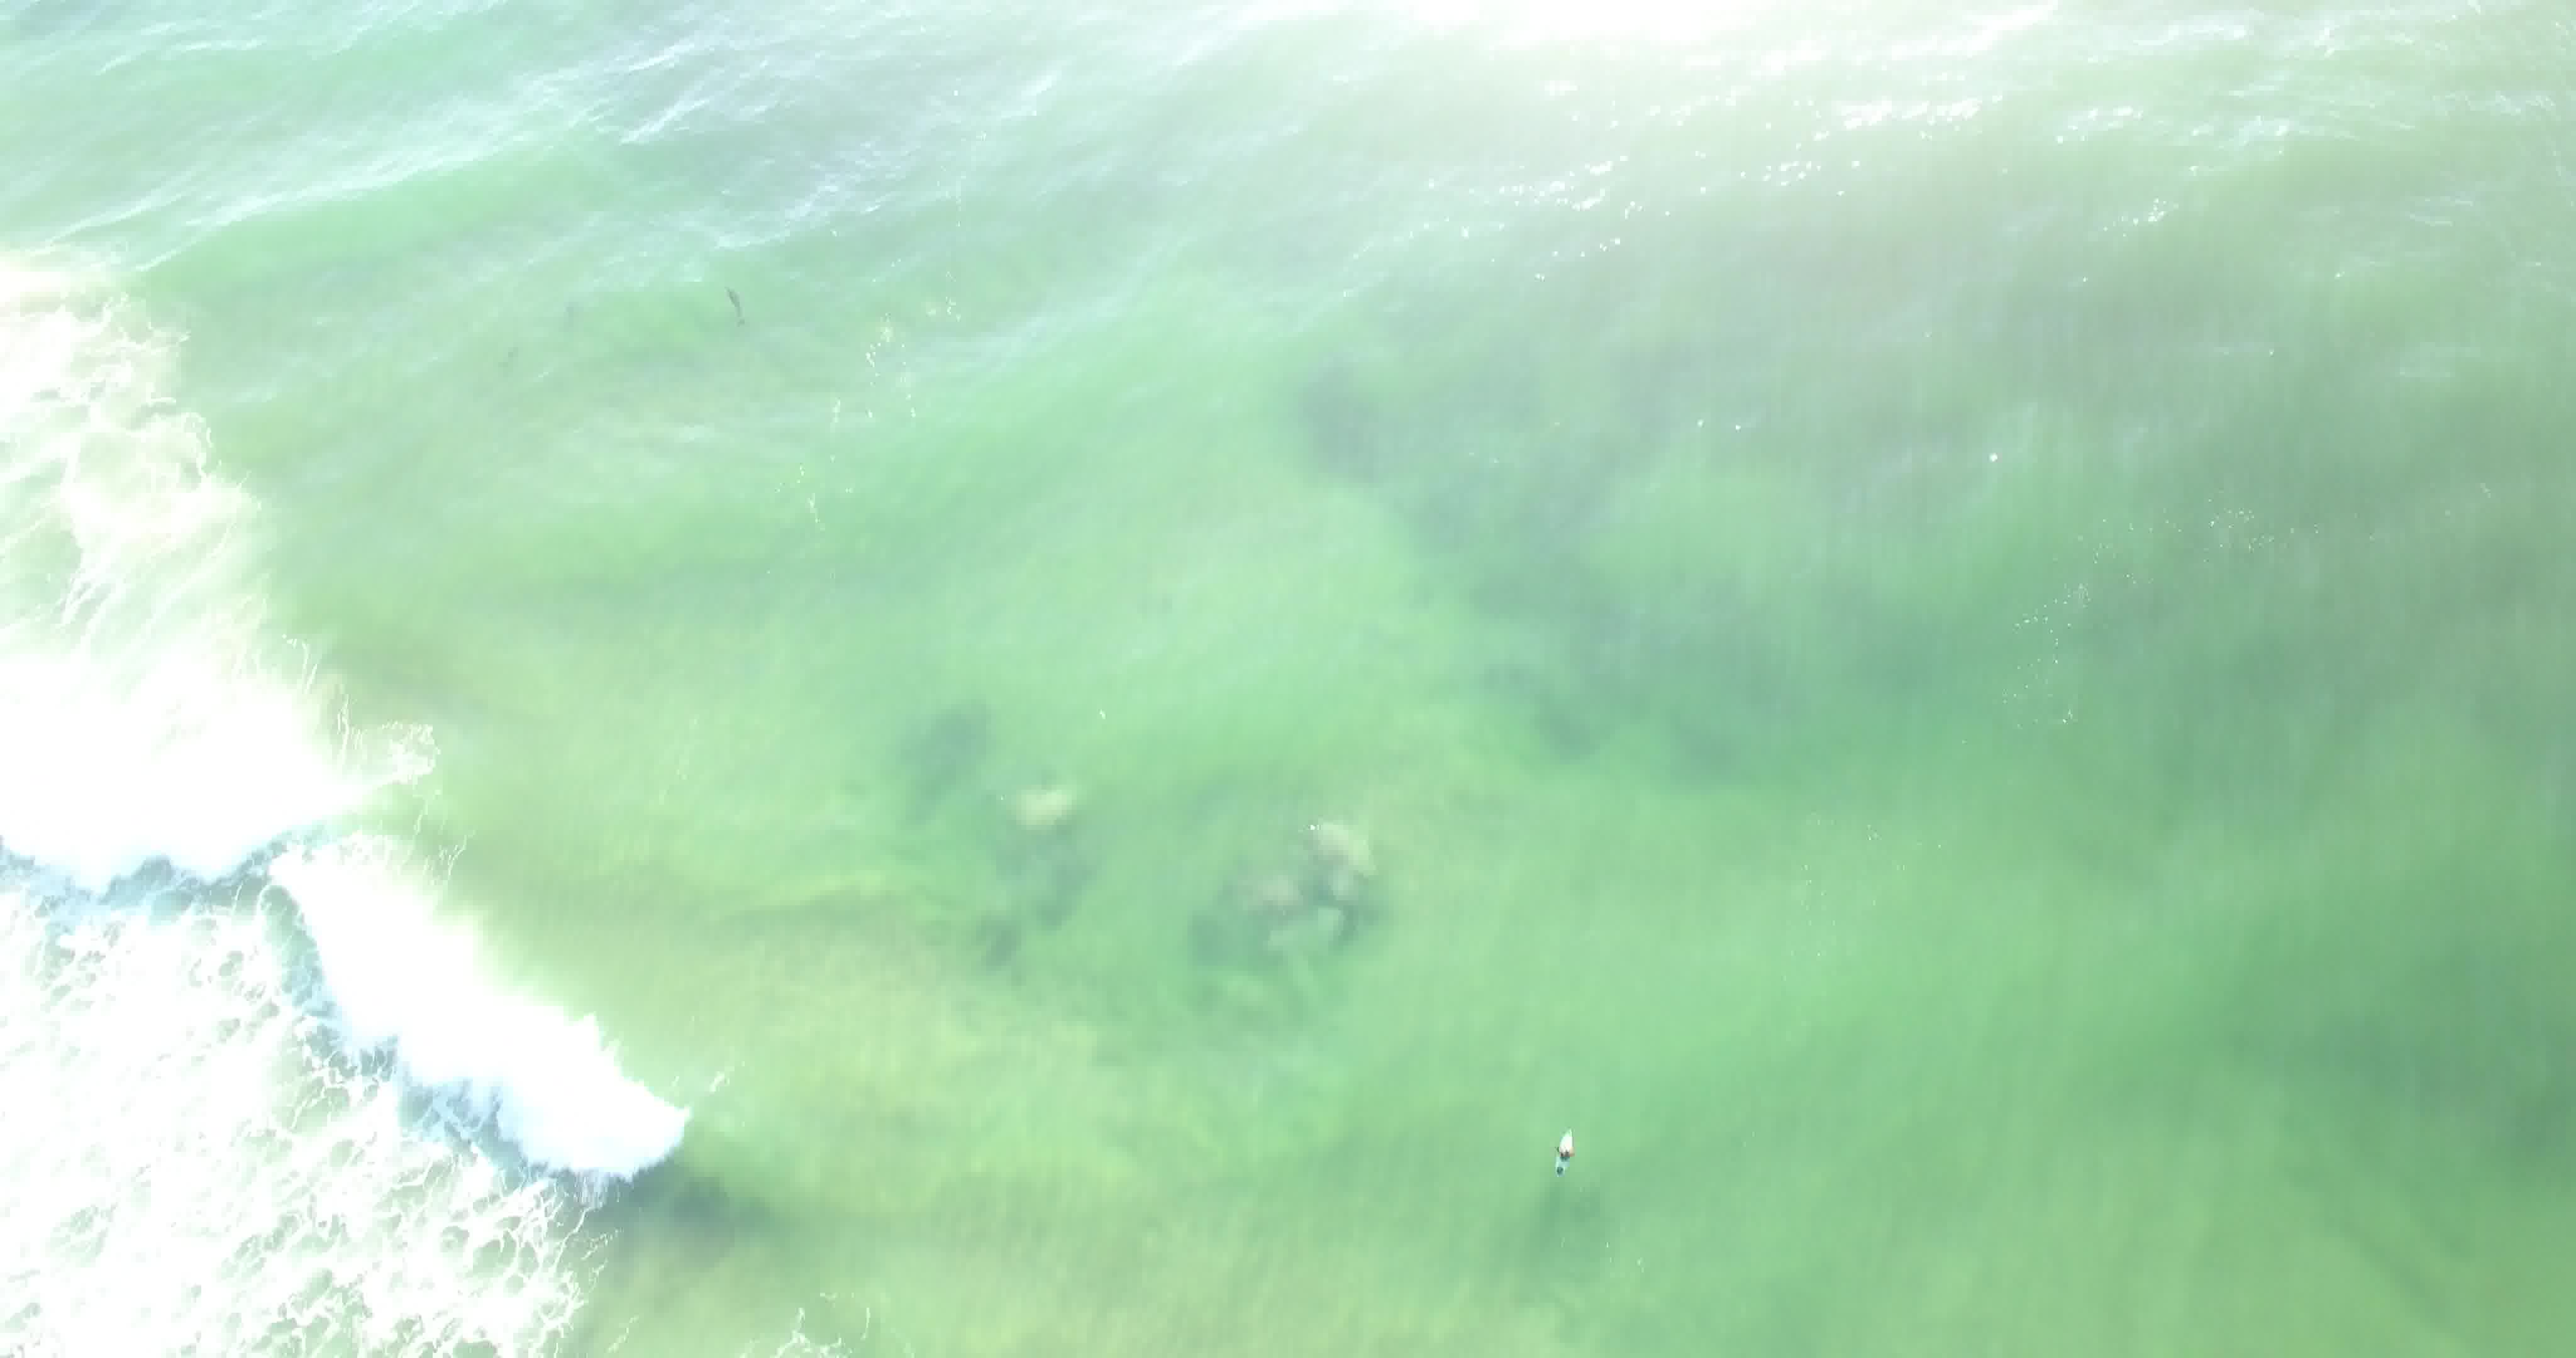dolphin: (704, 266, 765, 334)
